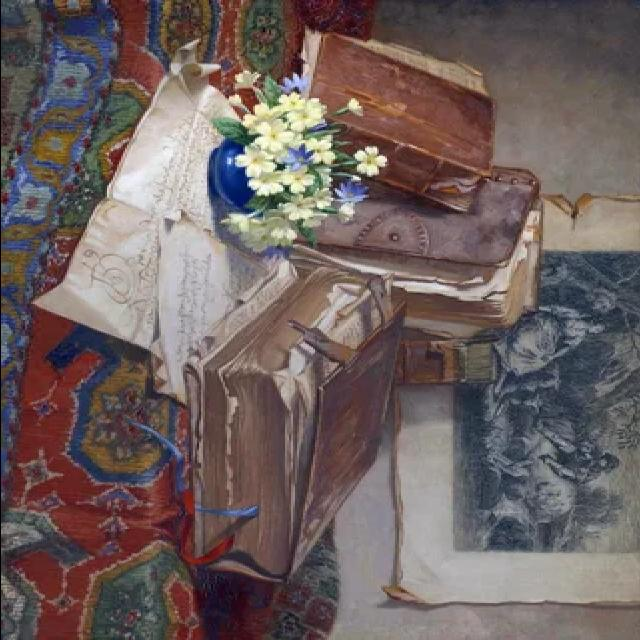book: (157, 258, 409, 600)
